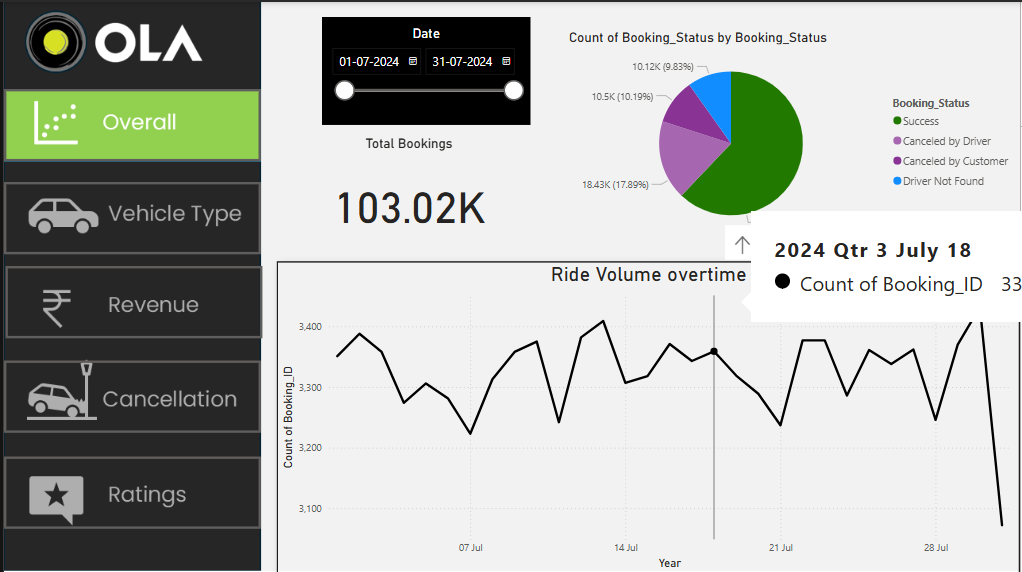

This screenshot's page, from the dashboard's own definition file:
{"tool":"powerbi","page":{"name":"overall","canvas":[1280,720],"ordinal":0},"visuals":[{"type":"actionButton","box":[0,572.5,323.7,91.1],"z":0},{"type":"actionButton","box":[0,227.7,323.7,91.1],"z":1000},{"type":"actionButton","box":[1.6,333.4,323.7,91.1],"z":2000},{"type":"actionButton","box":[0,452.2,323.7,91.1],"z":3000},{"type":"actionButton","box":[0,109,323.7,91.1],"z":4000},{"type":"lineChart","title":"Ride Volume overtime","fields":{"Y":["CountNonNull(July.Booking_ID)"],"Category":["July.Date.Variation.Date Hierarchy.Year","July.Date.Variation.Date Hierarchy.Quarter","July.Date.Variation.Date Hierarchy.Month","July.Date.Variation.Date Hierarchy.Day"]},"box":[343.9,326.9,935.4,393.1],"z":5000},{"type":"slicer","title":"Date","fields":{"Values":["July.Date"]},"box":[400.6,18.9,262.7,136.1],"z":7000},{"type":"pieChart","fields":{"Category":["July.Booking_Status"],"Y":["CountNonNull(July.Booking_Status)"]},"box":[706.8,34,572.6,268.3],"z":8001},{"type":"card","title":"Total Bookings","fields":{"Values":["CountNonNull(July.Booking_ID)"]},"box":[400.6,168.2,219.2,147.4],"z":8002}]}

Visuals, with their boxes in screenshot pixels (x1, y1, x2, y2), scaled from the page's 1280x720 canvas onto the 1022x572 screenshot:
actionButton: box=[0, 455, 258, 527]
actionButton: box=[0, 181, 258, 253]
actionButton: box=[1, 265, 260, 337]
actionButton: box=[0, 359, 258, 432]
actionButton: box=[0, 87, 258, 159]
"Ride Volume overtime" lineChart: box=[275, 260, 1021, 571]
"Date" slicer: box=[320, 15, 530, 123]
pieChart - July.Booking_Status x CountNonNull(July.Booking_Status): box=[564, 27, 1021, 240]
"Total Bookings" card: box=[320, 134, 495, 251]
